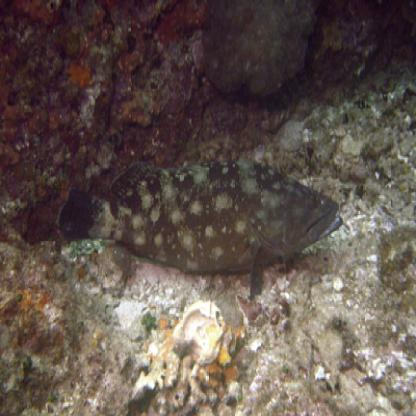Serranidae -Groupers-: (59, 156, 344, 298)
